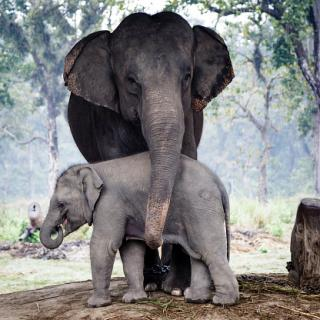Elephant: (62, 10, 236, 293), (38, 148, 248, 310)
